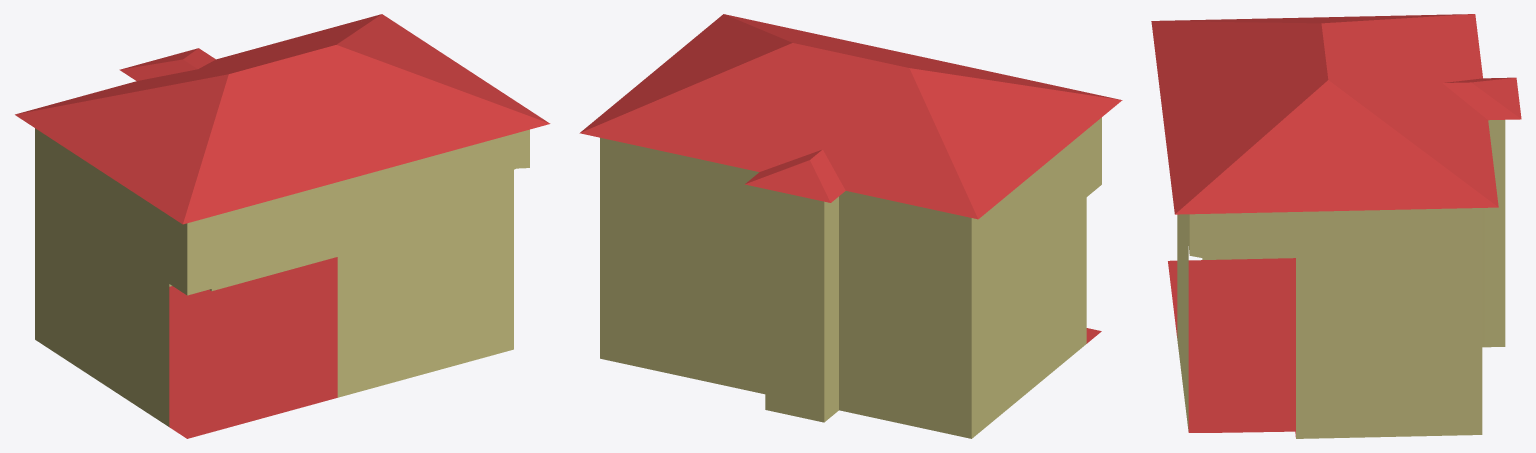
3 renders of one model, left to right at view 1: azimuth 30°, elevation 25°; view 2: azimuth 150°, elevation 25°; view 3: azimuth 270°, elevation 25°, orthographic. The views are drawn at different scales.
Bounding box in the file's own units: 15.2 × 11.85 × 10.46.
